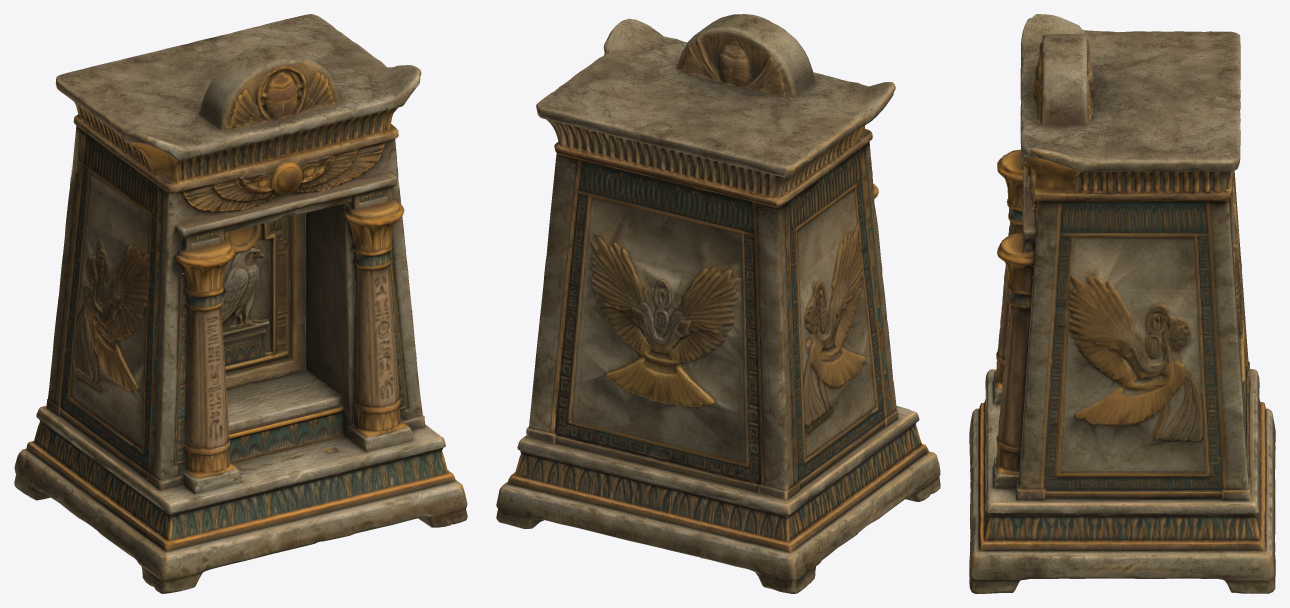
The model's file is WF_EgyptianTombV2_Naos.fbx.
3 views of the same model, side by side, from view 1: azimuth 30°, elevation 25°; view 2: azimuth 150°, elevation 25°; view 3: azimuth 270°, elevation 25° (orthographic). The views are drawn at different scales.
Parts seen in each view (by area): view 1: Mesh1.0; view 2: Mesh1.0; view 3: Mesh1.0.
Boxes of the visible parts, x1,y1,x2,y2 form: Mesh1.0: [14, 14, 467, 593]; Mesh1.0: [496, 14, 940, 593]; Mesh1.0: [969, 14, 1275, 593].
Size of the model in its own units: 130 by 191 by 111.
1 material, 1 textured.
